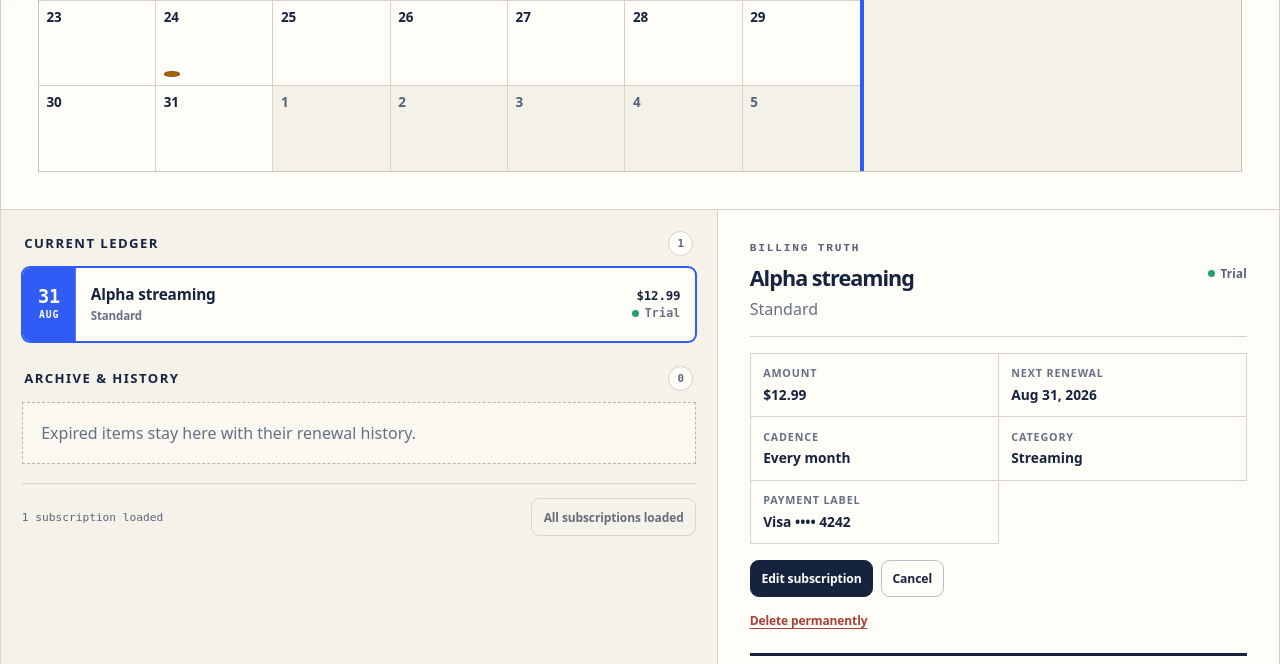
Scenario: SubscriptionExperience › makes persisted trial boundaries unavailable to misleading edit success
(page scrolled)
Click the button with aria-label "Alpha streaming. Next renewal:" at (50, 304), box [22,266,696,342]
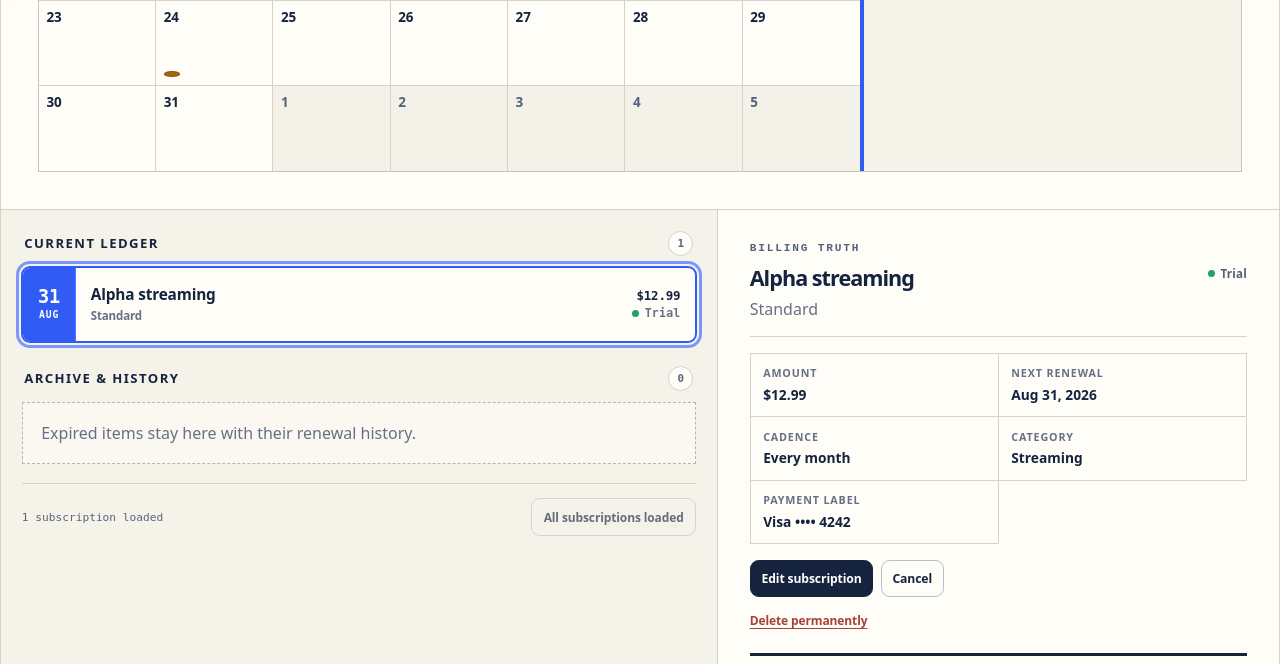
Click the button "Edit subscription" at (812, 578), box [750,560,874,597]
(page scrolled)
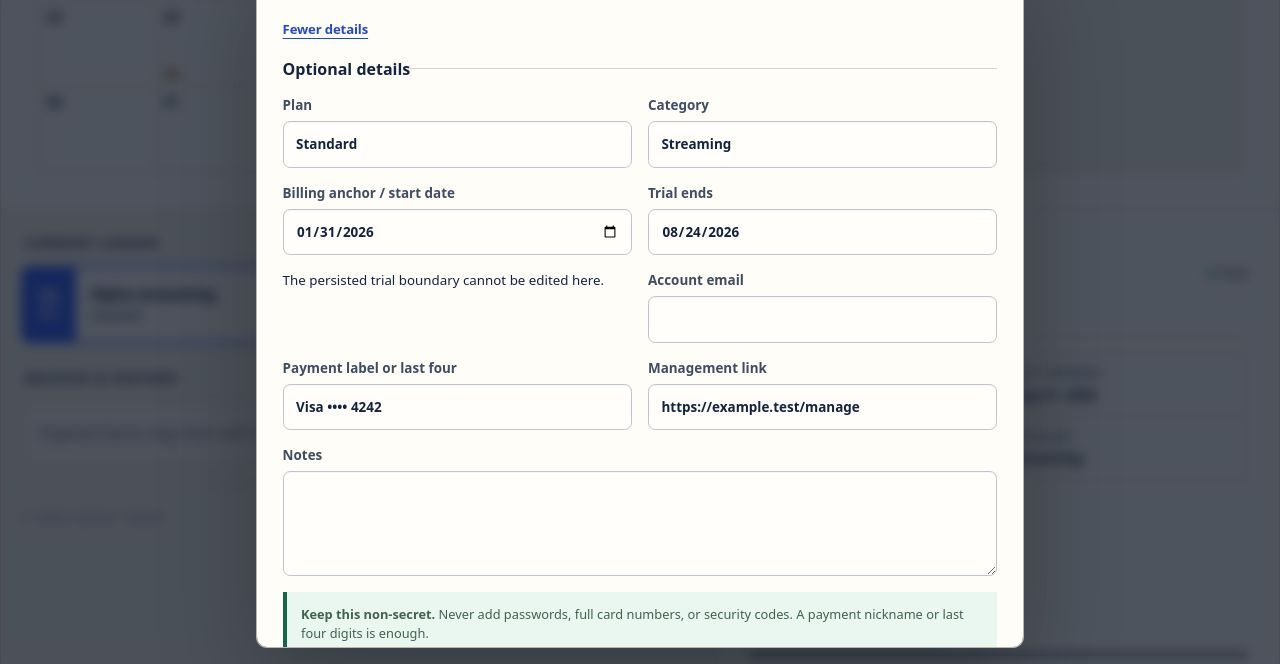
Result: the date field labelled "Trial ends" is disabled at [648,209,997,255]
Result: the text "The persisted trial boundary cannot be edited here." is shown at [283,271,604,289]
